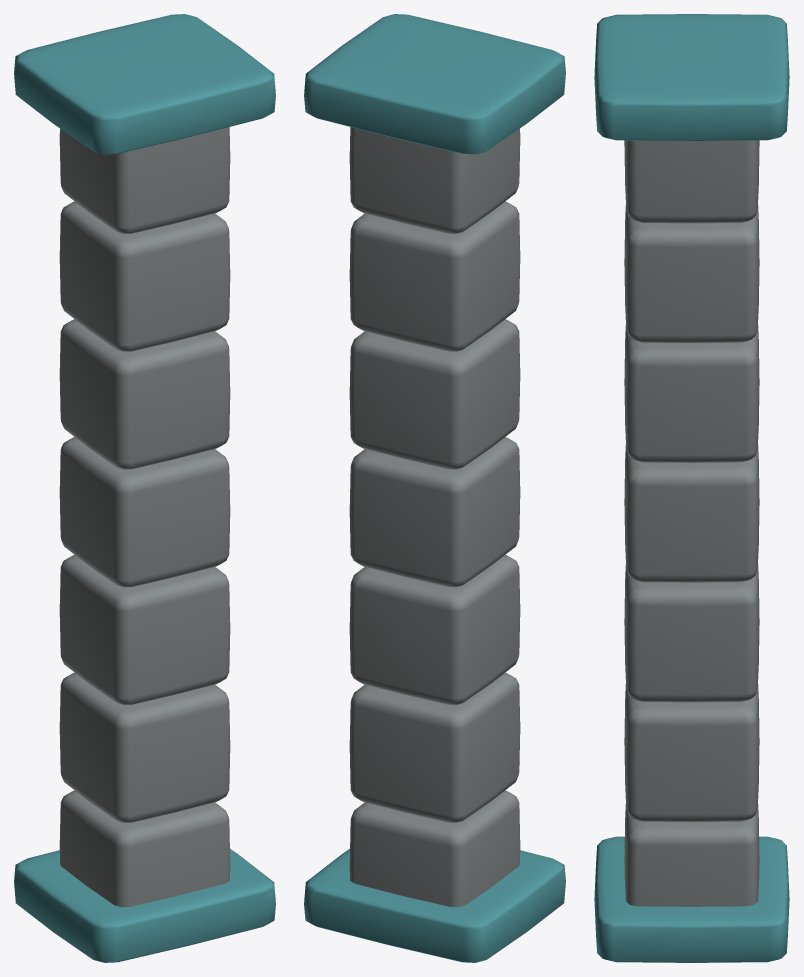
File: column.fbx
The picture shows the model from 3 angles, left to right: view 1: azimuth 30°, elevation 25°; view 2: azimuth 150°, elevation 25°; view 3: azimuth 270°, elevation 25°; orthographic projection.
Visible parts, largest first — view 1: column_mesh; view 2: column_mesh; view 3: column_mesh.
Boxes of the visible parts, bbox=[...] form: column_mesh: bbox=[14, 14, 275, 962]; column_mesh: bbox=[304, 14, 565, 962]; column_mesh: bbox=[594, 14, 789, 962].
Size of the model in its own units: 0.73 by 3.18 by 0.65.
